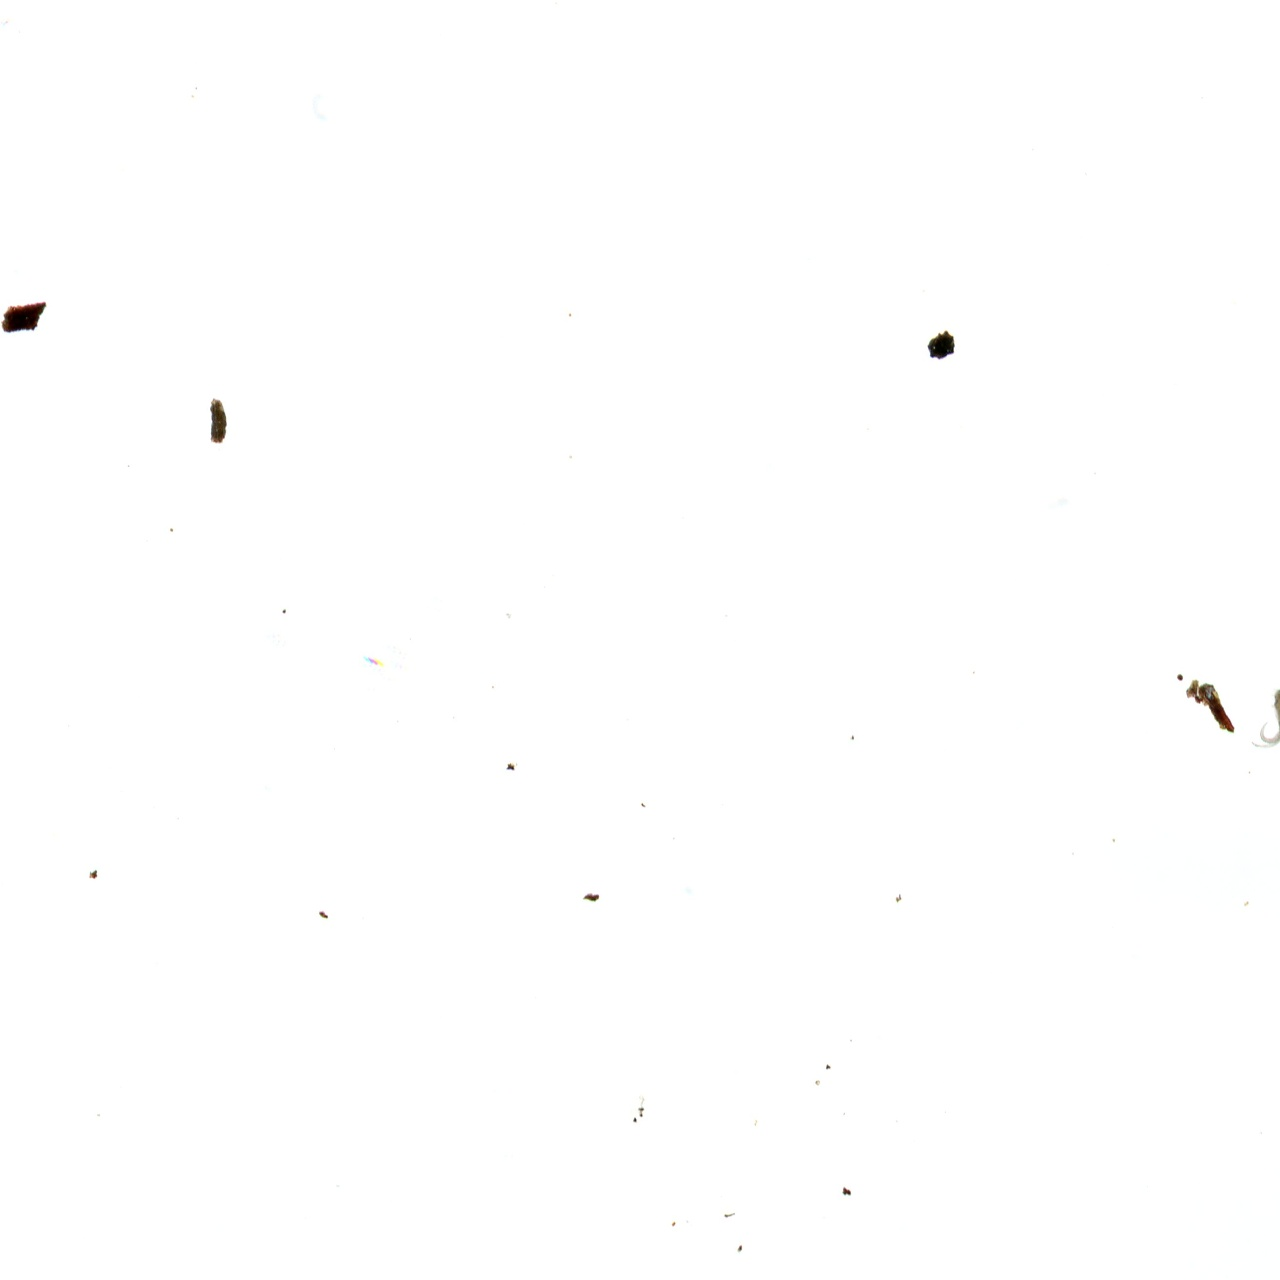arthropod: (1224, 667, 1280, 870)
